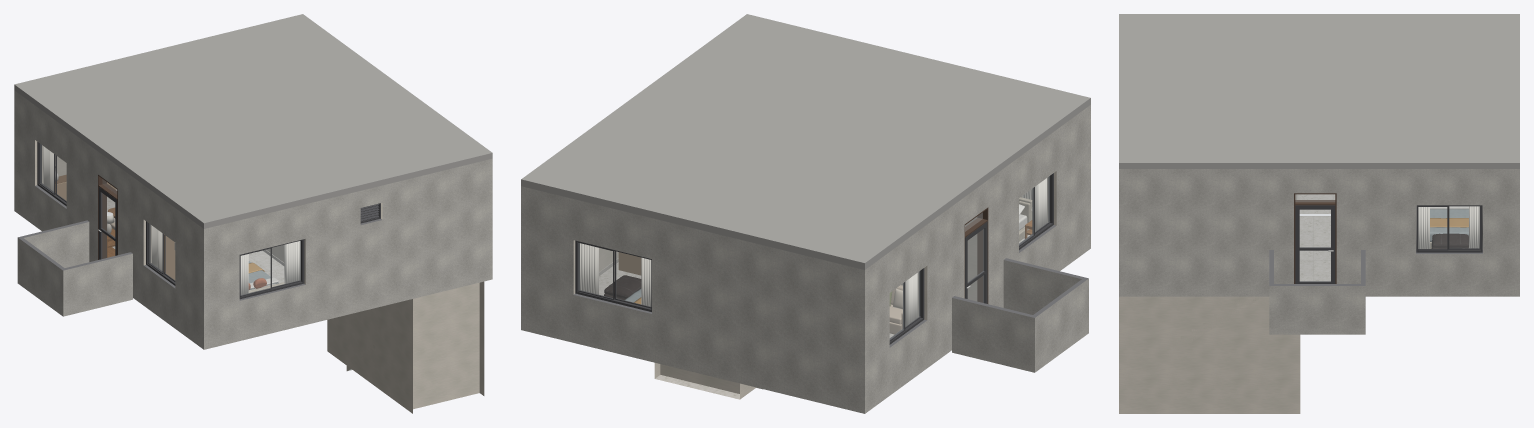
Rendered from second_floor.glb.
3 views of the same model, side by side, from view 1: azimuth 30°, elevation 25°; view 2: azimuth 150°, elevation 25°; view 3: azimuth 270°, elevation 25° (orthographic). The views are drawn at different scales.
Parts seen in each view (by area): view 1: SLAB__CEILING, WALL__E03, WALL__E04, WALL__STAIRSHAFT, PARAPET__B01, SLAB__FLOOR, LEAF__D01, W03__GlassPane.002, W03__GlassPane.003, WALL__E01, FRAME__D01, FLOOR__R02 (+4 smaller); view 2: SLAB__CEILING, WALL__E01, WALL__E04, PARAPET__B01, SLAB__FLOOR, W04__GlassPane.003, LEAF__D01, W04__GlassPane.002, WALL__STAIRSHAFT, FRAME__D01, WALL__E03, BALCONY__B01 (+6 smaller); view 3: SLAB__CEILING, WALL__E02, WALL__STAIRSHAFT, PARAPET__B02, LEAF__D06, SLAB__FLOOR, FLOOR__R04, W05__GlassPane, WALL__E01, WALL__E03, W05__GlassPane.001, STAIR__UPPER_FLIGHT (+6 smaller).
Part boxes in pixels (<box>): SLAB__CEILING: <box>14,14,492,228</box>; WALL__E03: <box>199,158,492,343</box>; WALL__E04: <box>19,94,199,340</box>; WALL__STAIRSHAFT: <box>327,281,484,413</box>; PARAPET__B01: <box>17,220,132,316</box>; SLAB__FLOOR: <box>14,205,492,349</box>; LEAF__D01: <box>98,187,117,259</box>; W03__GlassPane.002: <box>241,249,270,295</box>; W03__GlassPane.003: <box>272,241,300,286</box>; WALL__E01: <box>14,90,66,208</box>; FRAME__D01: <box>98,175,117,259</box>; FLOOR__R02: <box>248,251,284,283</box>; SLAB__CEILING: <box>521,14,1090,269</box>; WALL__E01: <box>521,186,870,406</box>; WALL__E04: <box>870,109,1085,402</box>; PARAPET__B01: <box>952,258,1088,372</box>; SLAB__FLOOR: <box>521,242,1090,413</box>; W04__GlassPane.003: <box>578,243,612,298</box>; LEAF__D01: <box>965,221,987,303</box>; W04__GlassPane.002: <box>616,251,650,306</box>; WALL__STAIRSHAFT: <box>654,363,755,399</box>; FRAME__D01: <box>964,207,988,303</box>; WALL__E03: <box>1021,105,1090,245</box>; BALCONY__B01: <box>952,326,1088,372</box>; SLAB__CEILING: <box>1119,14,1519,168</box>; WALL__E02: <box>1129,169,1509,290</box>; WALL__STAIRSHAFT: <box>1119,296,1300,413</box>; PARAPET__B02: <box>1269,250,1365,334</box>; LEAF__D06: <box>1295,205,1335,283</box>; SLAB__FLOOR: <box>1119,290,1519,296</box>; FLOOR__R04: <box>1299,216,1330,281</box>; W05__GlassPane: <box>1449,206,1479,248</box>; WALL__E01: <box>1510,169,1519,290</box>; WALL__E03: <box>1119,169,1128,290</box>; W05__GlassPane.001: <box>1418,207,1446,248</box>; STAIR__UPPER_FLIGHT: <box>1169,296,1258,355</box>.
Size of what is drawn, in the model's own units: 11.86 by 6.55 by 9.11.
Materials: 65 (33 with a texture image).
